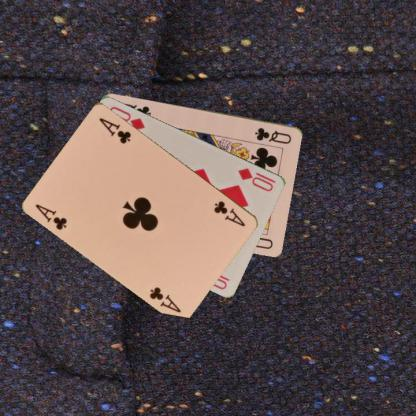10d: (236, 165, 277, 193)
Ac: (33, 201, 69, 232), (212, 198, 247, 228)
Qc: (252, 124, 293, 145)
